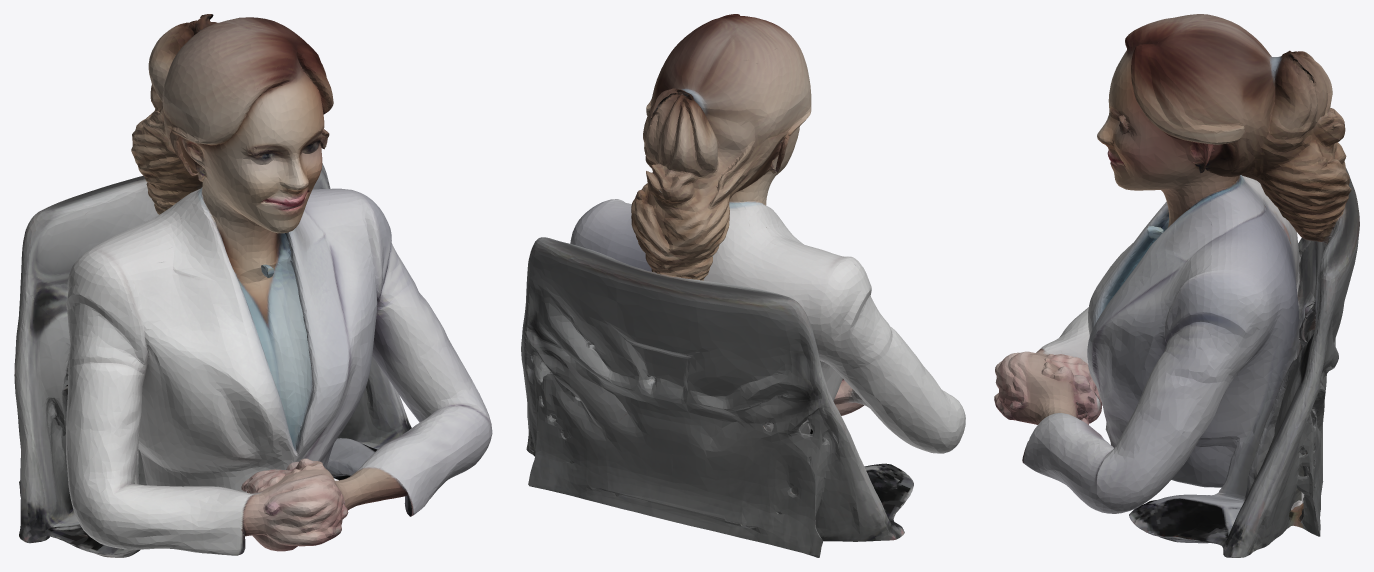
File: SARAH.glb
3 renders of one model, left to right at view 1: azimuth 30°, elevation 25°; view 2: azimuth 150°, elevation 25°; view 3: azimuth 270°, elevation 25°, orthographic. The views are drawn at different scales.
Parts seen in each view (by area): view 1: world; view 2: world; view 3: world.
Part boxes in pixels (bbox=[...]): world: bbox=[14, 14, 492, 557]; world: bbox=[521, 14, 965, 557]; world: bbox=[994, 14, 1359, 557].
Bounding box in the file's own units: 0.878 × 0.9955 × 0.7371.
Materials: 1 (1 with a texture image).
